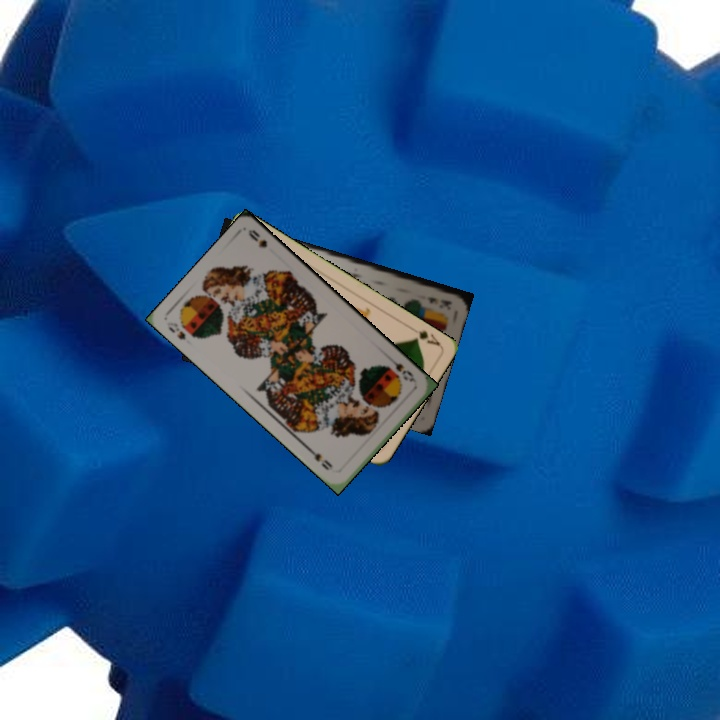EK: (424, 293, 454, 310)
GA: (405, 322, 442, 348)
SO: (385, 354, 419, 385), (163, 318, 188, 342)
